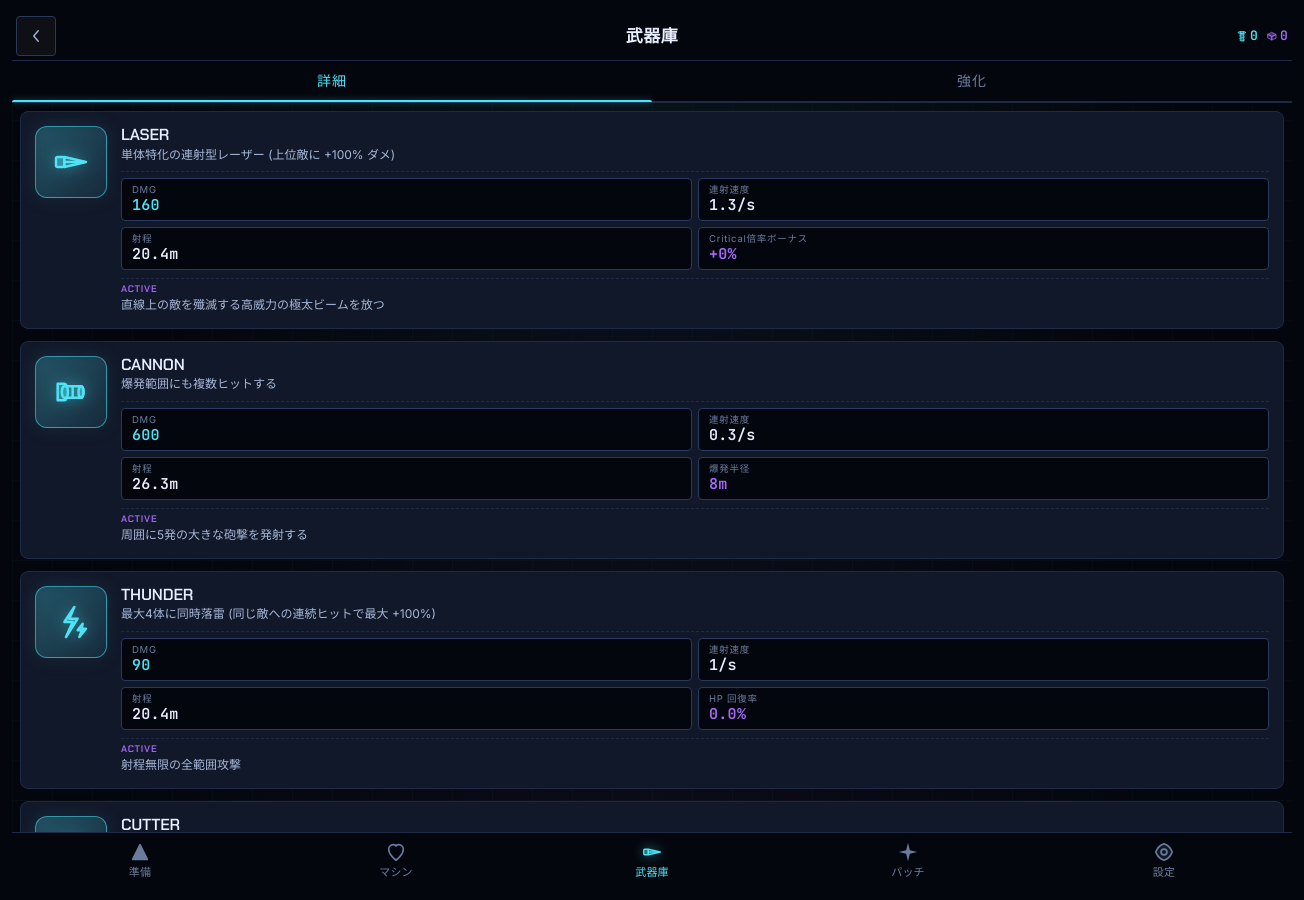
Scenario: ArmoryScreen › 「強化」タブをクリックすると武器強化タブパネルが表示される
Click the tab "強化". click: point(972, 81)
box: [652,61,1292,101]
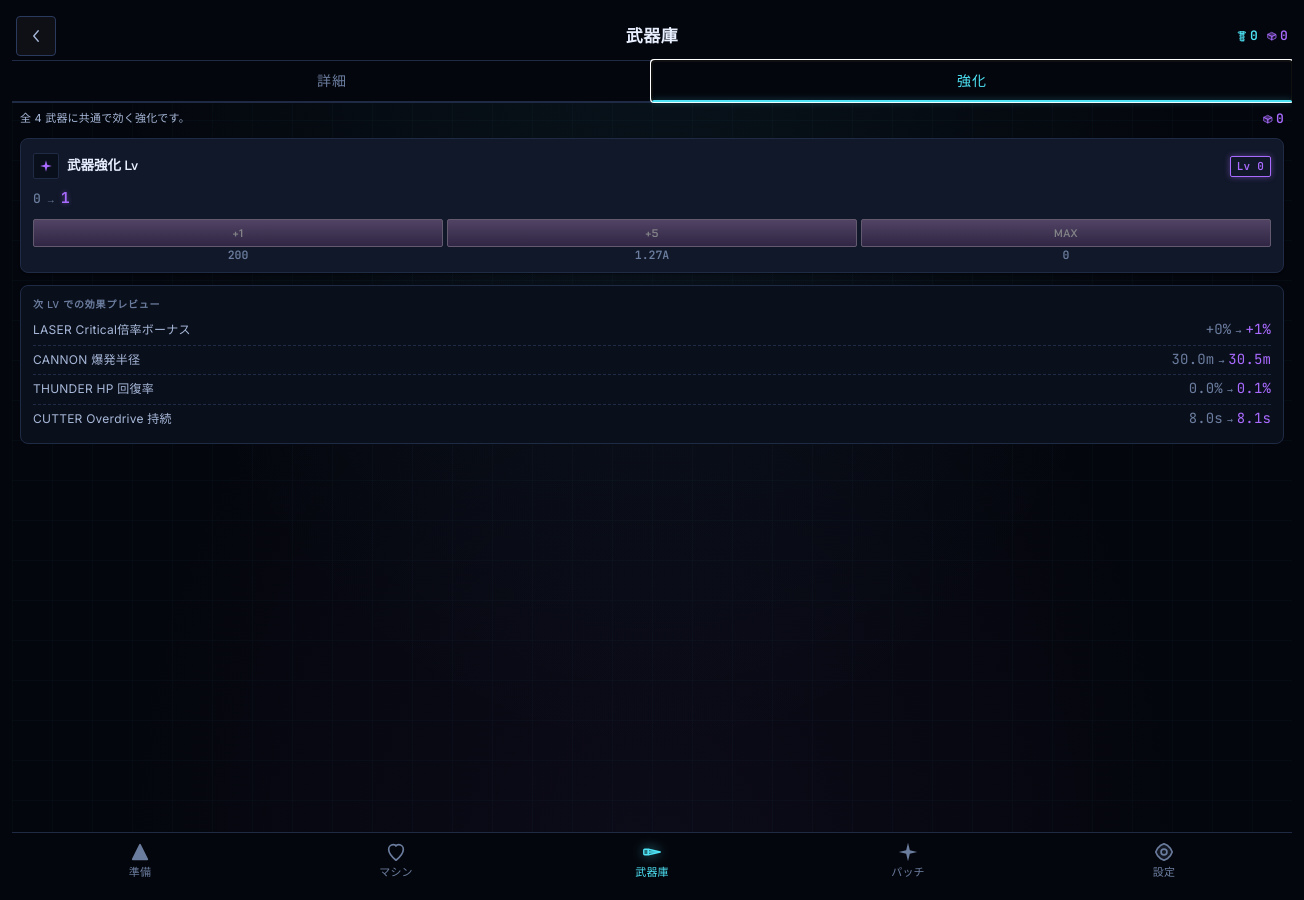
Now the panel "武器強化" is shown, box [20,111,1284,444]
